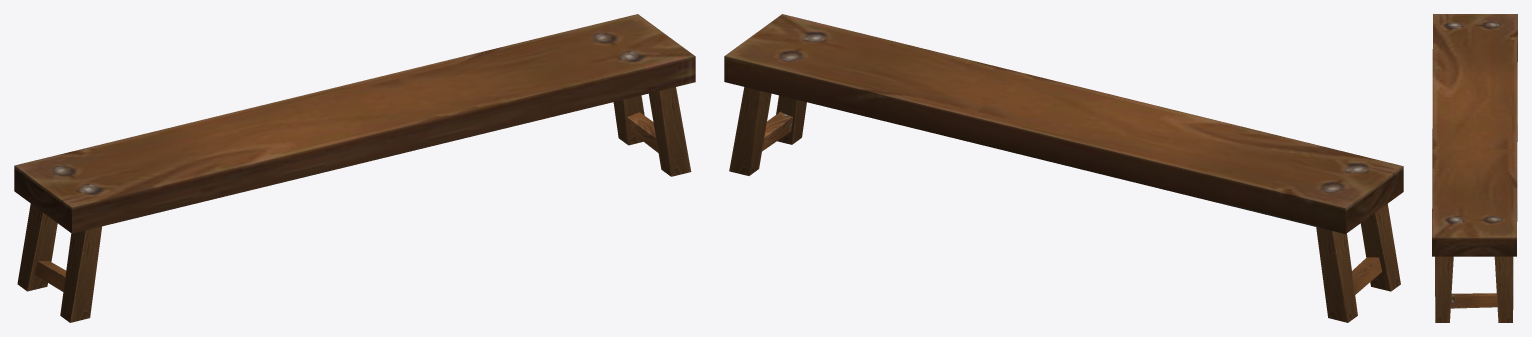
The model's file is szc_object_tanwei11a_2.FBX.
The picture shows the model from 3 angles, left to right: view 1: azimuth 30°, elevation 25°; view 2: azimuth 150°, elevation 25°; view 3: azimuth 270°, elevation 25°; orthographic projection. The views are drawn at different scales.
Parts seen in each view (by area): view 1: szc_object_tanwei11a_2; view 2: szc_object_tanwei11a_2; view 3: szc_object_tanwei11a_2.
Boxes of the visible parts, <box> form: szc_object_tanwei11a_2: <box>14,14,695,322</box>; szc_object_tanwei11a_2: <box>724,14,1403,322</box>; szc_object_tanwei11a_2: <box>1432,14,1517,322</box>.
Bounding box in the file's own units: 213 × 38.2 × 34.59.
